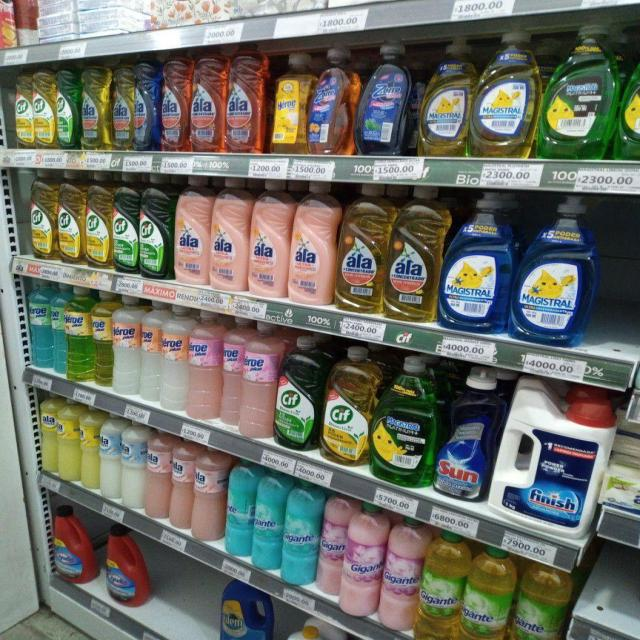ala_conc_amarillo: (386, 184, 439, 322), (337, 183, 385, 313), (80, 66, 110, 150), (111, 65, 134, 152)
ala_conc_azul: (134, 62, 159, 152)
ala_conc_rojo: (224, 51, 266, 155), (190, 55, 223, 154), (160, 57, 188, 153)
ala_crem_amarillo: (58, 400, 79, 482), (40, 396, 57, 476)
ala_crem_blanco: (122, 421, 144, 511), (99, 416, 121, 501)
ala_crem_rosado: (193, 448, 224, 543), (146, 432, 170, 520), (170, 441, 192, 532)
ala_ultra_rosa: (290, 180, 336, 307), (249, 179, 289, 300), (210, 176, 248, 292), (174, 175, 209, 286)
cif_conc_bot_amarilla: (323, 344, 370, 466), (85, 170, 112, 269), (29, 167, 56, 261), (58, 169, 84, 265), (34, 70, 55, 150), (13, 73, 33, 150)
cif_conc_botella_verde: (276, 334, 320, 450), (139, 172, 172, 280), (112, 172, 138, 275), (56, 68, 80, 150)
gigante: (418, 528, 461, 640), (462, 543, 511, 640), (381, 518, 418, 632), (512, 560, 564, 640), (342, 508, 380, 616), (282, 482, 317, 586), (252, 472, 282, 571), (318, 495, 343, 597)
heroe: (239, 319, 276, 440), (270, 51, 310, 152), (189, 308, 222, 421), (161, 302, 189, 413), (112, 294, 141, 396), (67, 285, 94, 382), (226, 462, 252, 560), (222, 317, 242, 430), (140, 298, 161, 404), (93, 290, 113, 388), (51, 281, 68, 377)
magistral_con_amarillo: (474, 31, 538, 158), (419, 38, 473, 158)
magistral_con_azul: (514, 195, 594, 346), (442, 191, 511, 333)
magistral_con_verde: (541, 22, 617, 158), (373, 351, 434, 481), (620, 19, 640, 162)
zorro: (360, 40, 410, 156), (308, 46, 356, 156)
